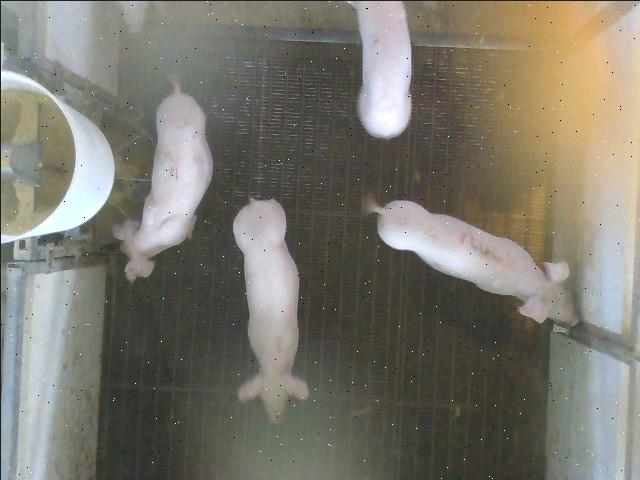pig-3: (375, 199, 578, 325)
